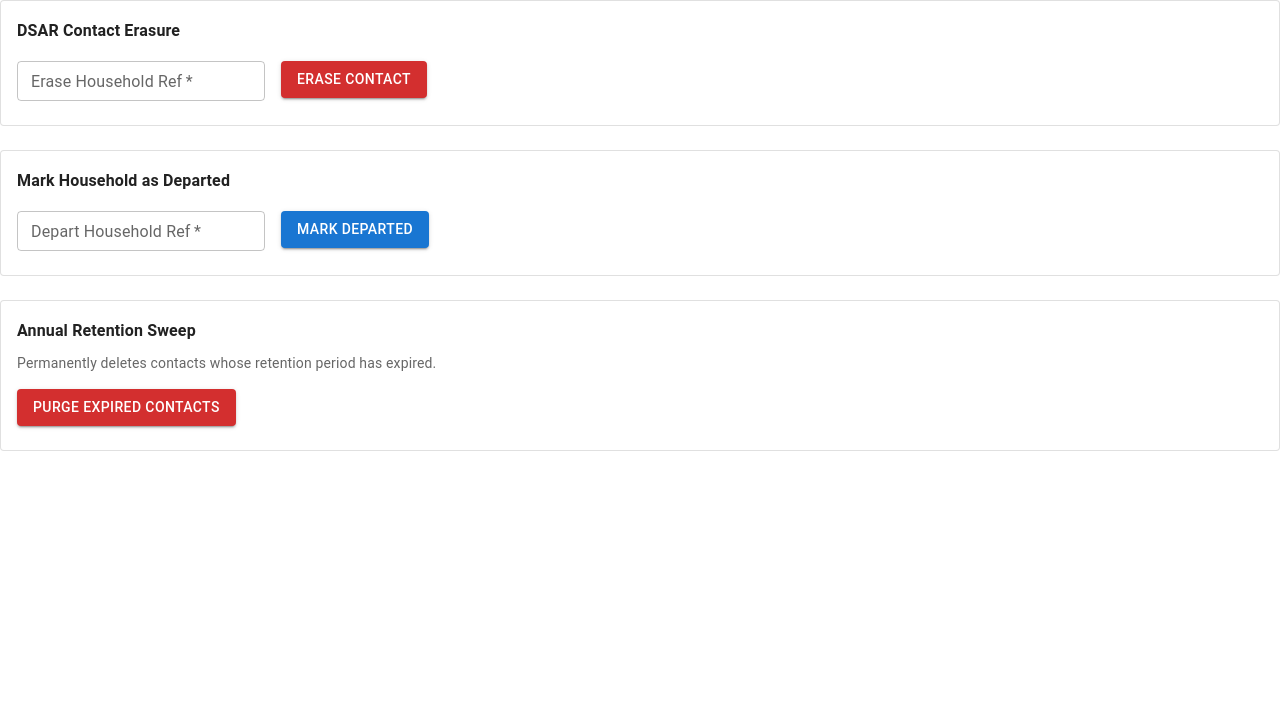
depart-form shows not-found result when markDeparted returns not-found
Type "H999" into the field with test id "depart-ref-input". click: (141, 231)
box: [17, 211, 265, 251]
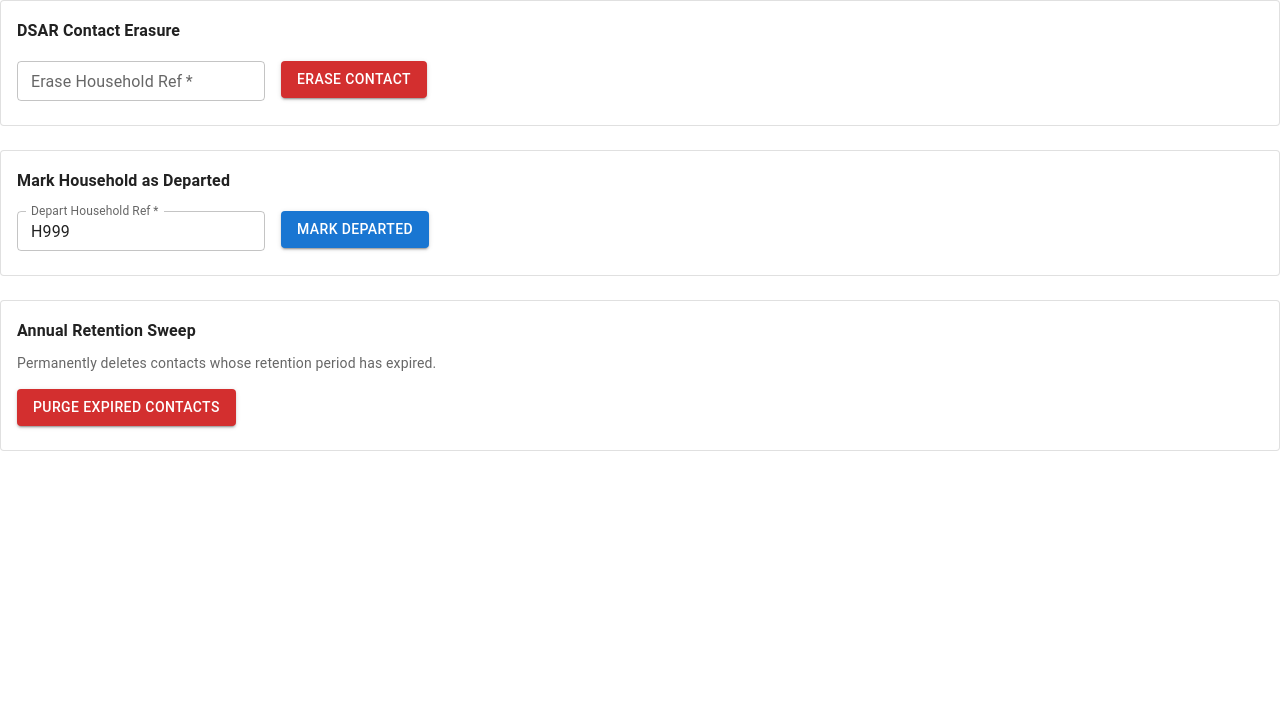
Submit the form with test id "depart-form", box [17, 204, 429, 251]
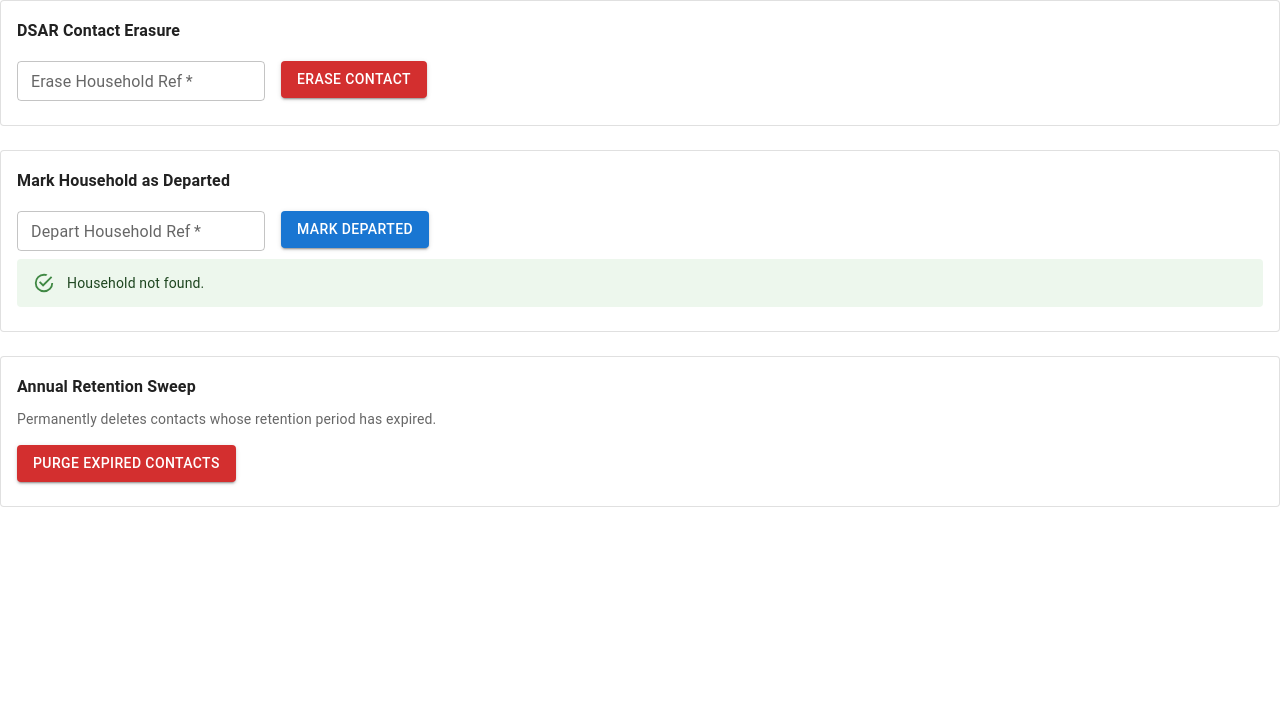
Expected: the message "Household not found." is shown, [17, 259, 1263, 307]
Expected: the message with test id "depart-result" shows "not found", [67, 275, 204, 291]
